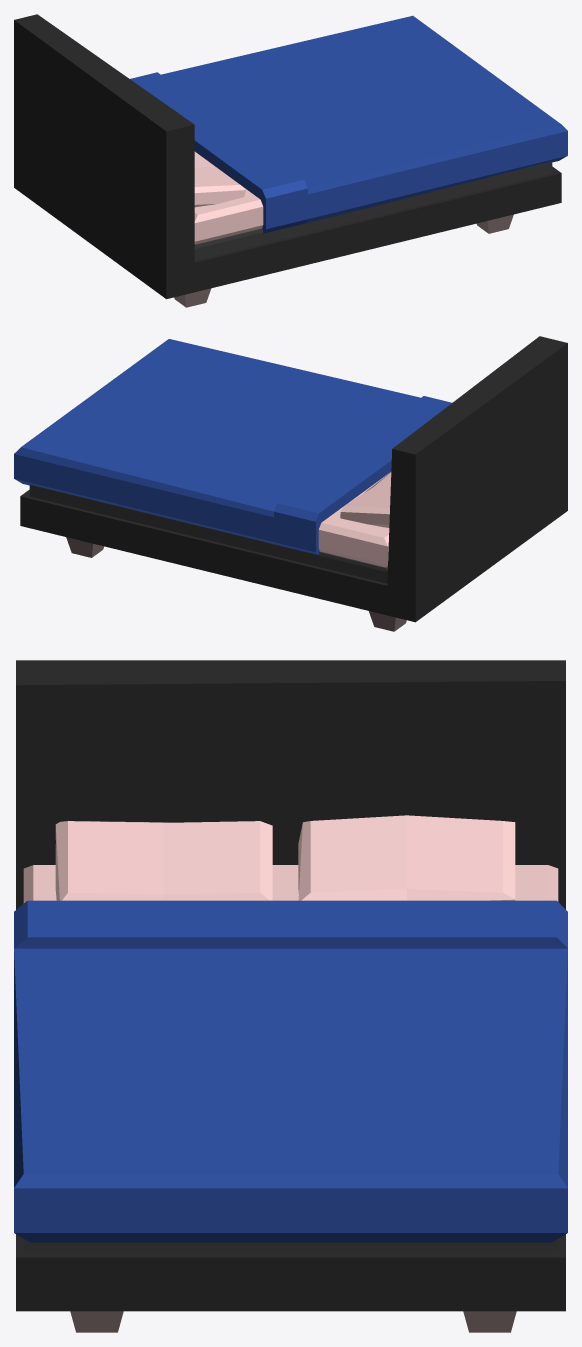
File: Bed.fbx
3 renders of one model, top to bottom at view 1: azimuth 30°, elevation 25°; view 2: azimuth 150°, elevation 25°; view 3: azimuth 270°, elevation 25°, orthographic. The views are drawn at different scales.
Visible parts, largest first — view 1: Bed; view 2: Bed; view 3: Bed.
Part boxes in pixels (x1,y1,x2,y2): Bed: (14, 14, 567, 307); Bed: (14, 336, 567, 631); Bed: (14, 660, 567, 1332).
Bounding box in the file's own units: 213 × 100 × 141.
